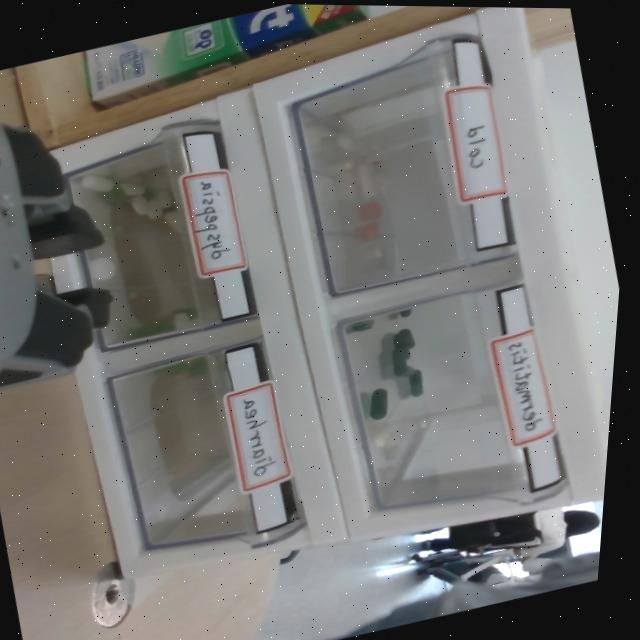text: (494, 335, 556, 435), (227, 387, 289, 479), (183, 170, 244, 263), (452, 112, 500, 175)
